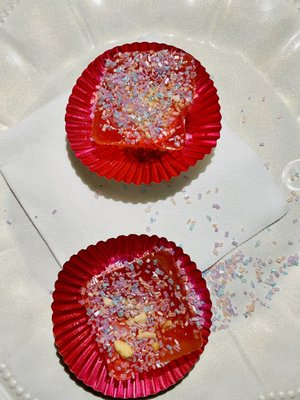salad: (49, 234, 214, 398)
sushi: (50, 234, 214, 398), (63, 42, 224, 195)
